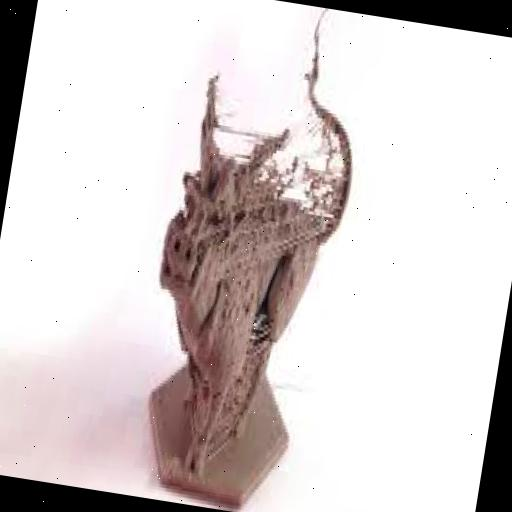stringing: (228, 111, 354, 269)
